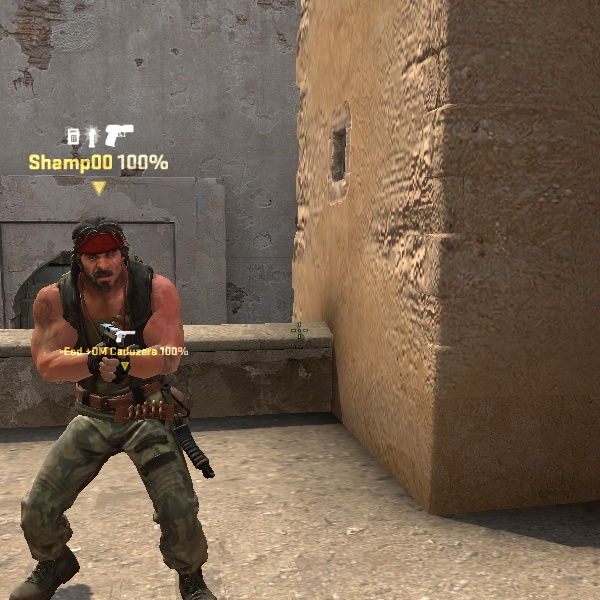t_body: (14, 210, 234, 600)
t_head: (56, 214, 143, 296)
